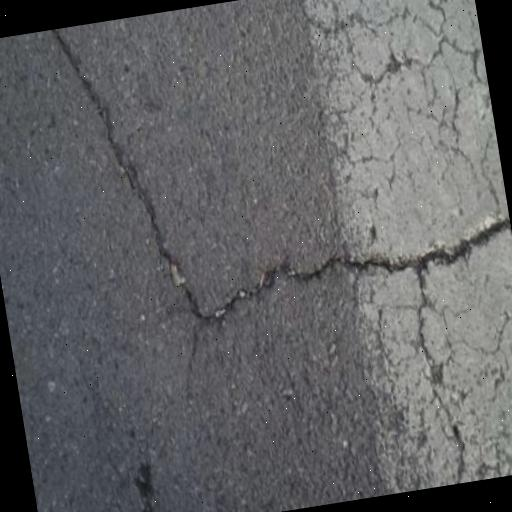spalling: (37, 38, 503, 346), (399, 280, 470, 480)
